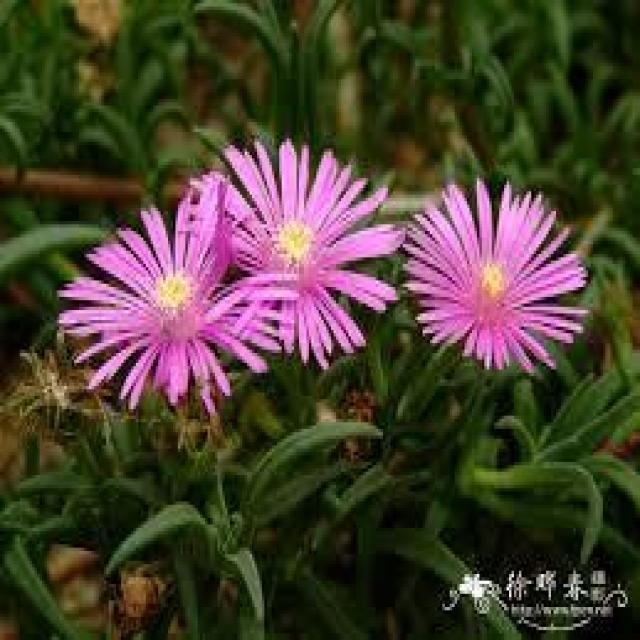organic waste: (44, 200, 296, 408), (176, 140, 400, 371), (390, 178, 590, 380)
